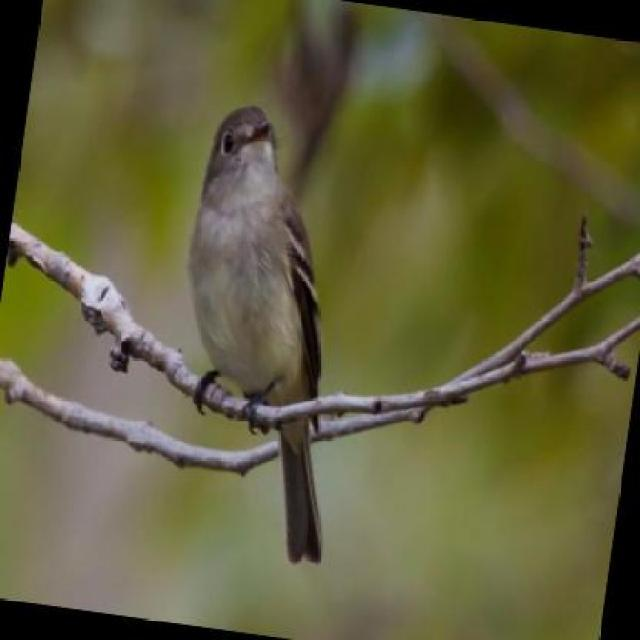Bird: (169, 99, 389, 560)
